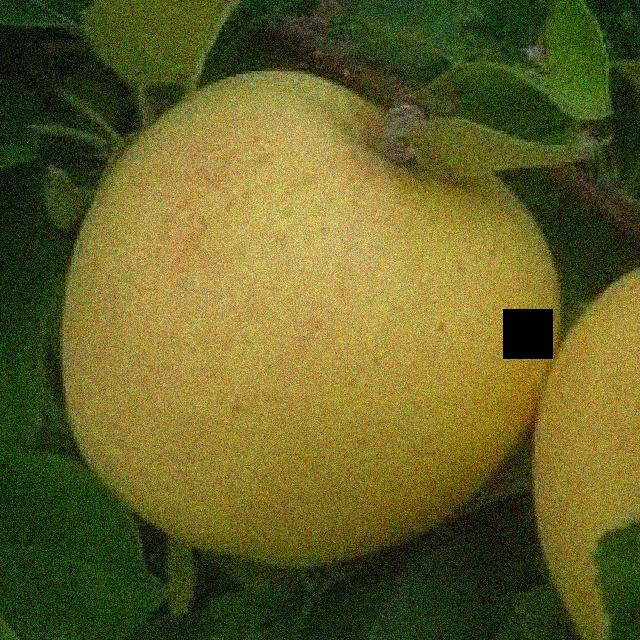green apple: (38, 63, 561, 578)
